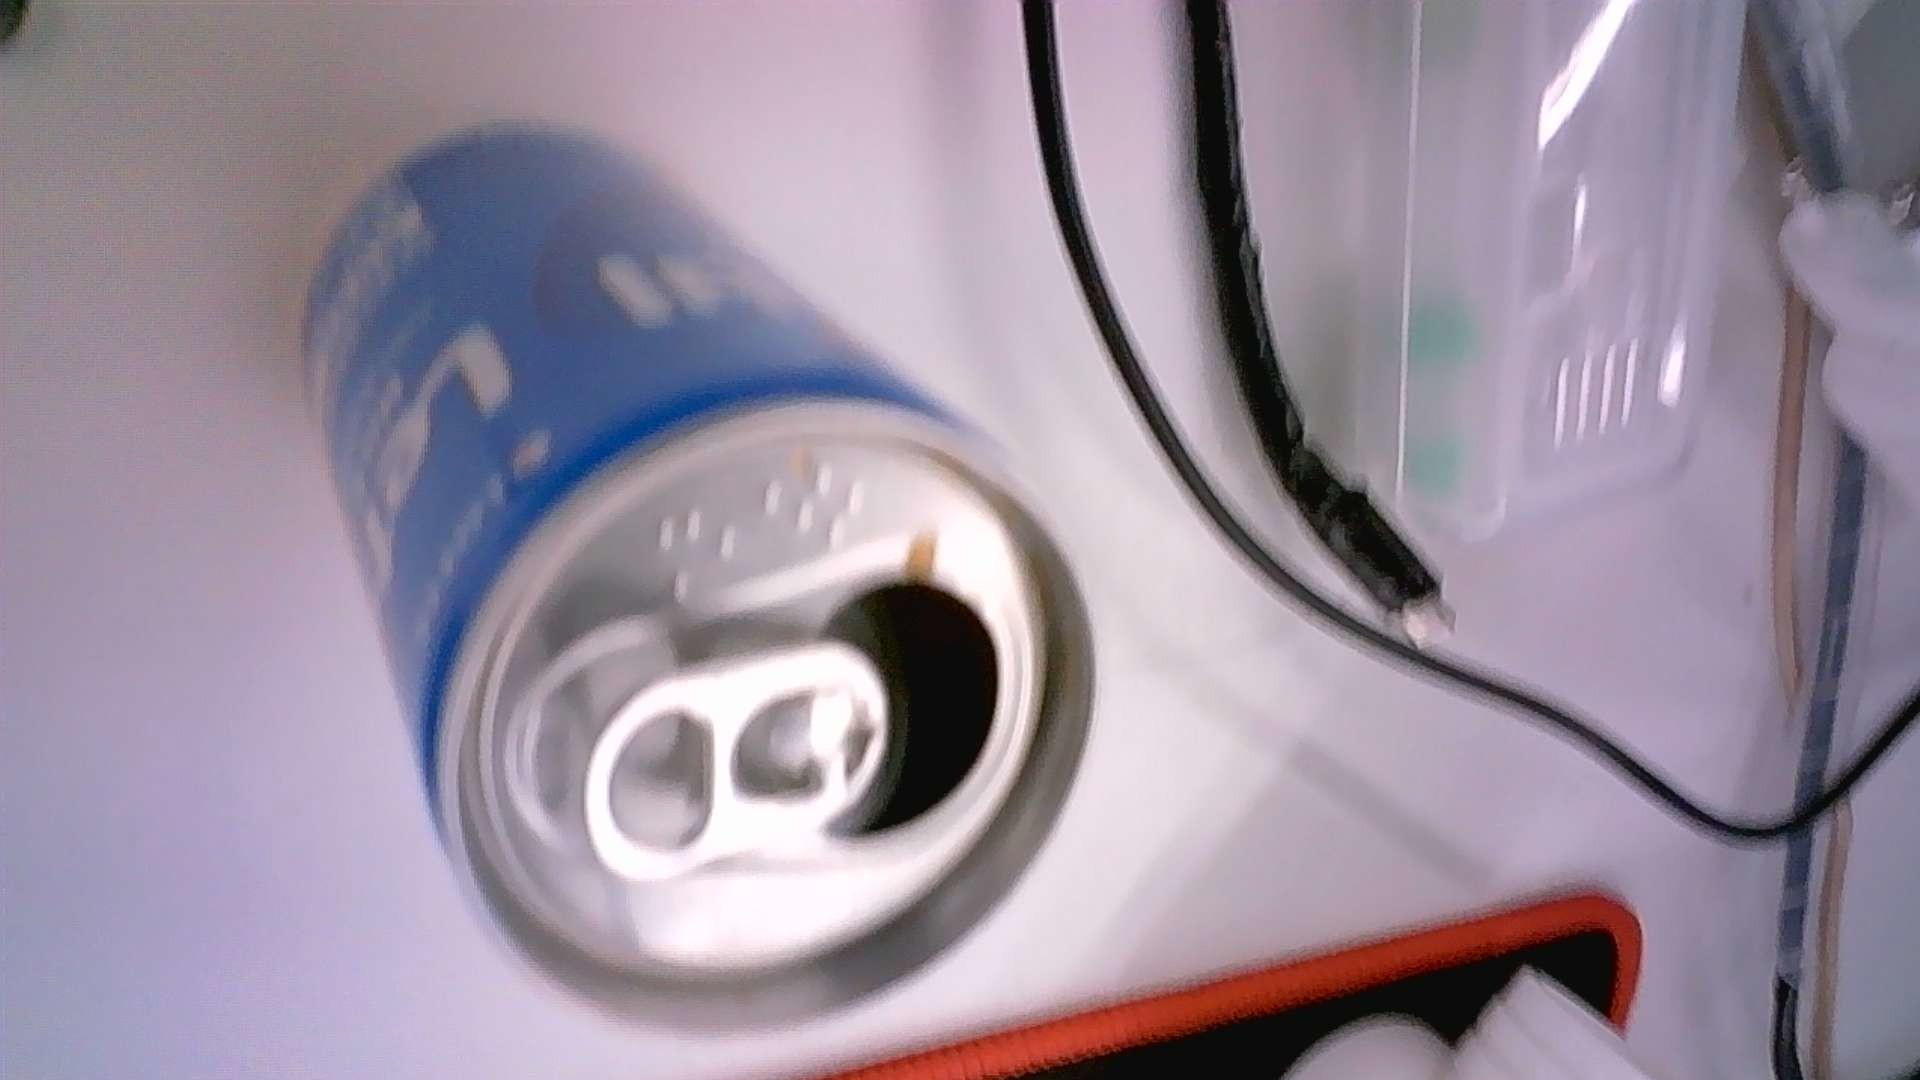letsbe: (302, 116, 1098, 1048)
